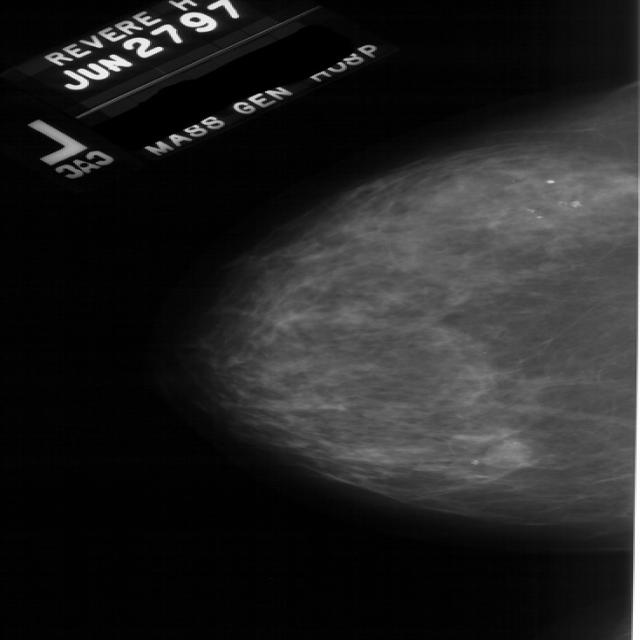tumour: (480, 438, 530, 468)
